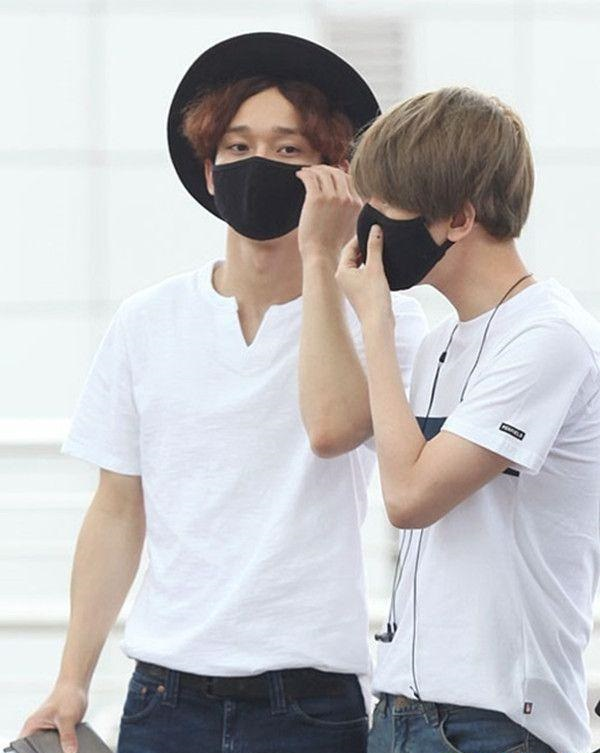face_mask: (214, 87, 322, 241), (357, 175, 436, 297)
